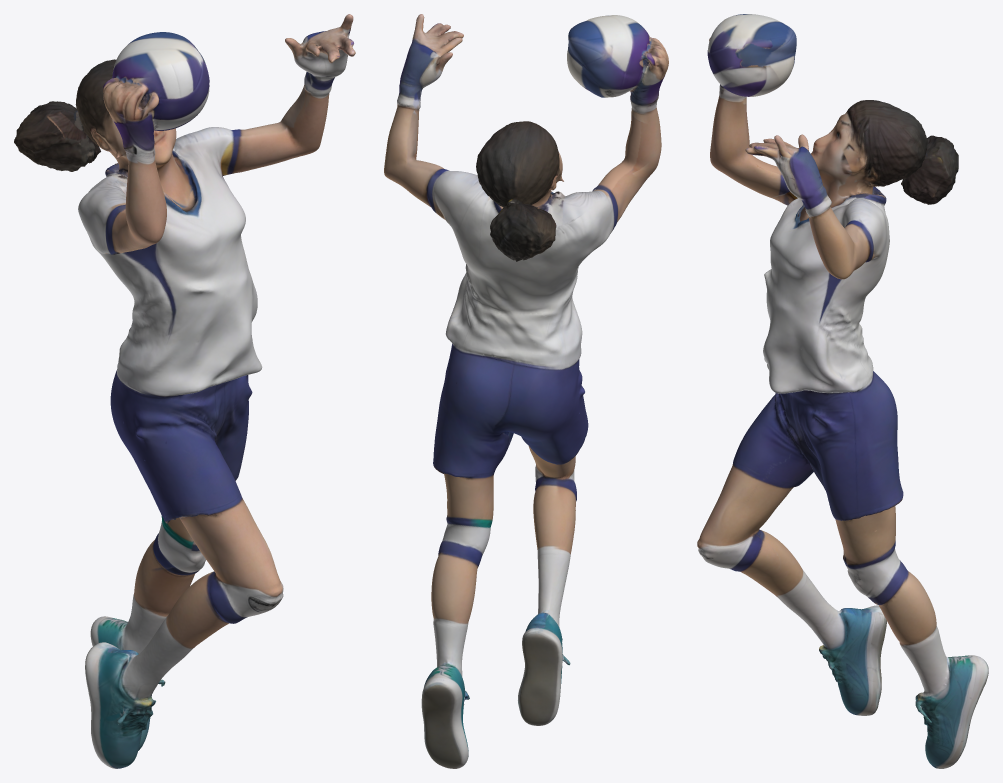
File: volleyball.glb
The picture shows the model from 3 angles, left to right: view 1: azimuth 30°, elevation 25°; view 2: azimuth 150°, elevation 25°; view 3: azimuth 270°, elevation 25°; orthographic projection. The views are drawn at different scales.
Bounding box in the file's own units: 23123 × 65582 × 24276.
1 material, 1 textured.
